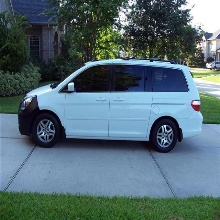no damage: (19, 58, 203, 152)
